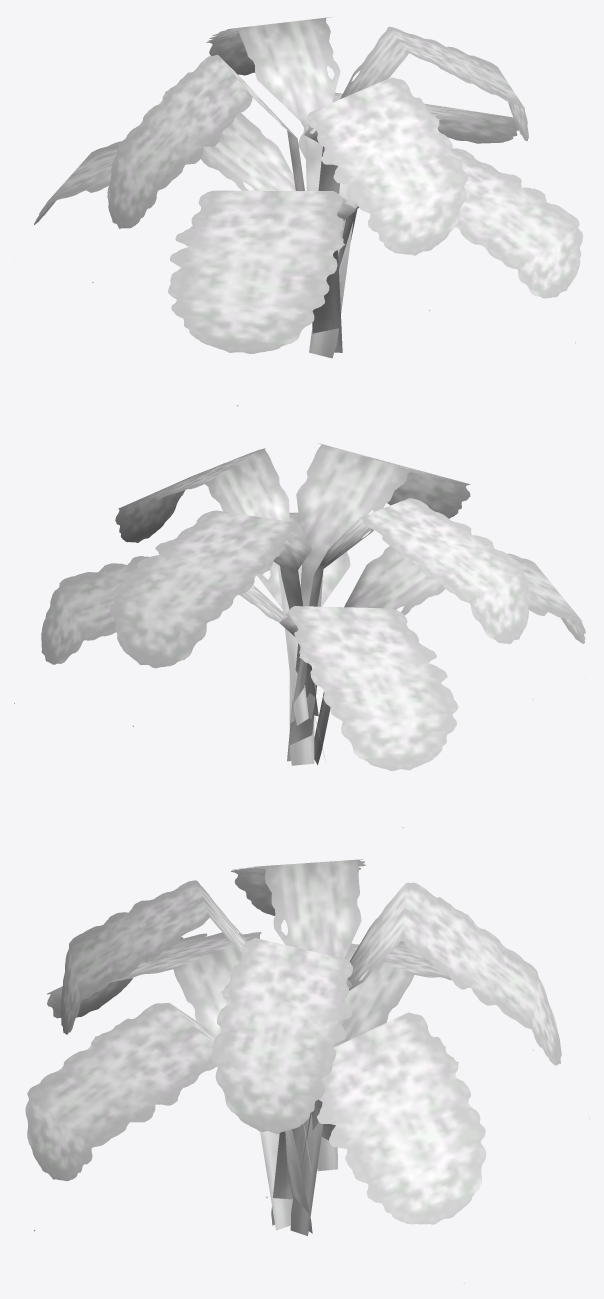
File: Kale_Item.fbx
3 views of the same model, one above another, from view 1: azimuth 30°, elevation 25°; view 2: azimuth 150°, elevation 25°; view 3: azimuth 270°, elevation 25° (orthographic). The views are drawn at different scales.
Visible parts, largest first — view 1: Leaves (1); view 2: Leaves (1); view 3: Leaves (1).
Boxes of the visible parts, x1,y1,x2,y2 form: Leaves (1): [34, 17, 583, 406]; Leaves (1): [14, 443, 585, 828]; Leaves (1): [25, 859, 589, 1284].
Bounding box in the file's own units: 1.34 × 0.8032 × 1.27.
Materials: 1 (1 with a texture image).
